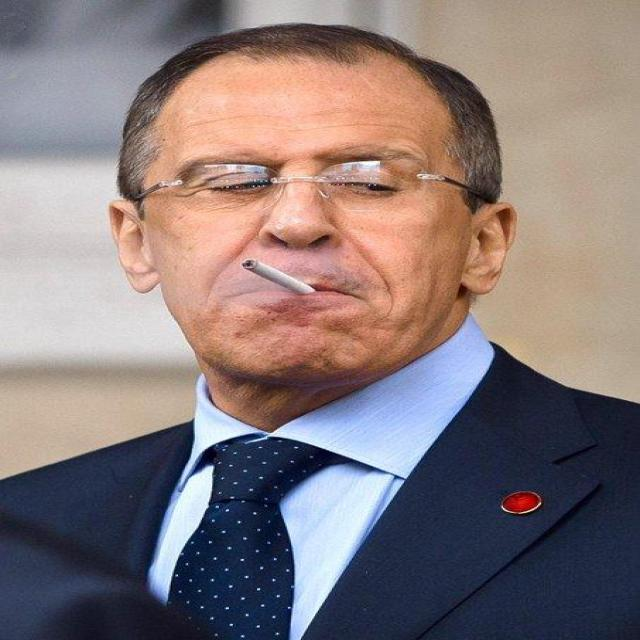rokok: (240, 252, 330, 294)
